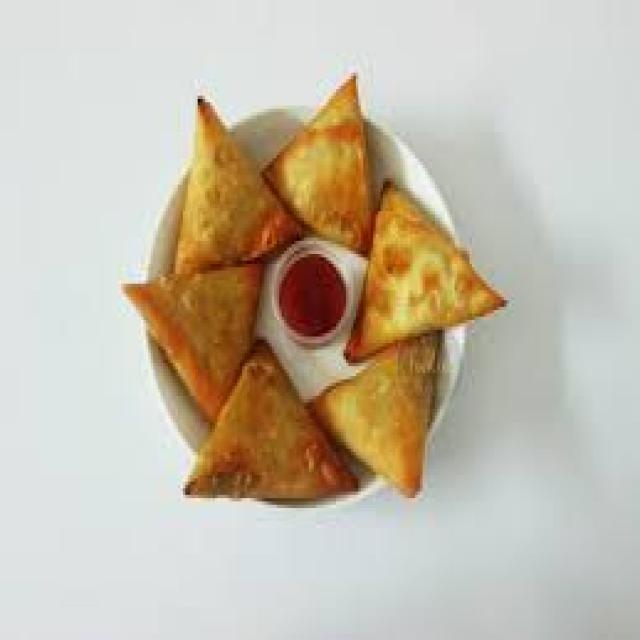SAMOSA: (344, 168, 507, 371), (181, 329, 364, 499), (175, 85, 303, 279), (263, 71, 372, 259)
